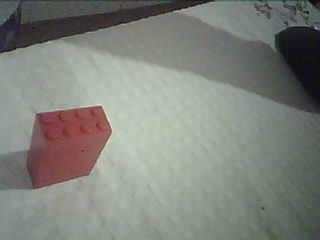lego: (24, 105, 112, 188)
